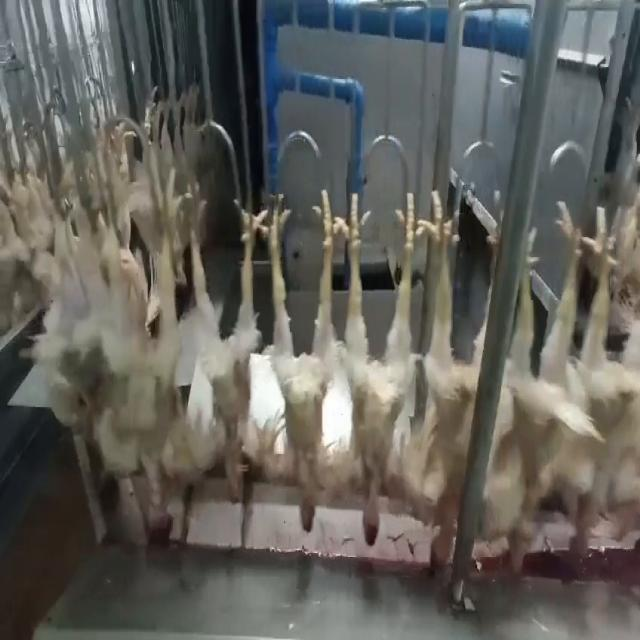chicken: (476, 201, 598, 582), (398, 192, 492, 570), (333, 183, 426, 547), (171, 198, 268, 510), (566, 205, 636, 590), (264, 188, 337, 542), (117, 201, 178, 533)
